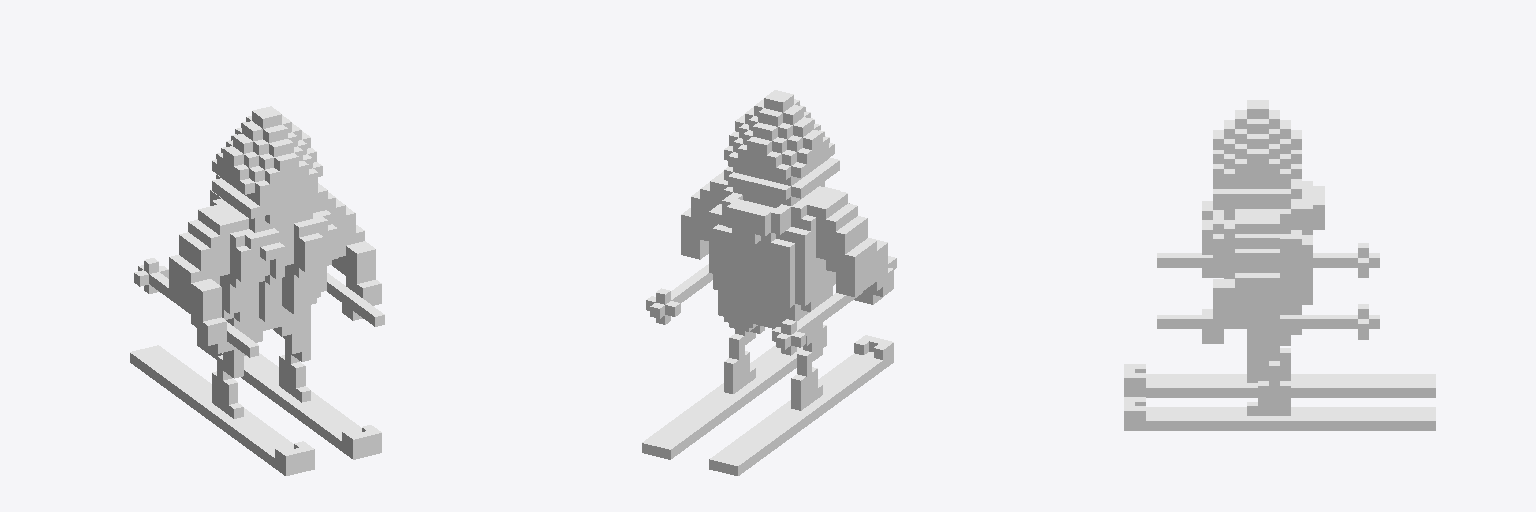
File: Saut_5_Frame_00.obj
The picture shows the model from 3 angles: view 1: azimuth 30°, elevation 25°; view 2: azimuth 150°, elevation 25°; view 3: azimuth 270°, elevation 25°; orthographic projection.
Size of the model in its own units: 18 by 30 by 28.